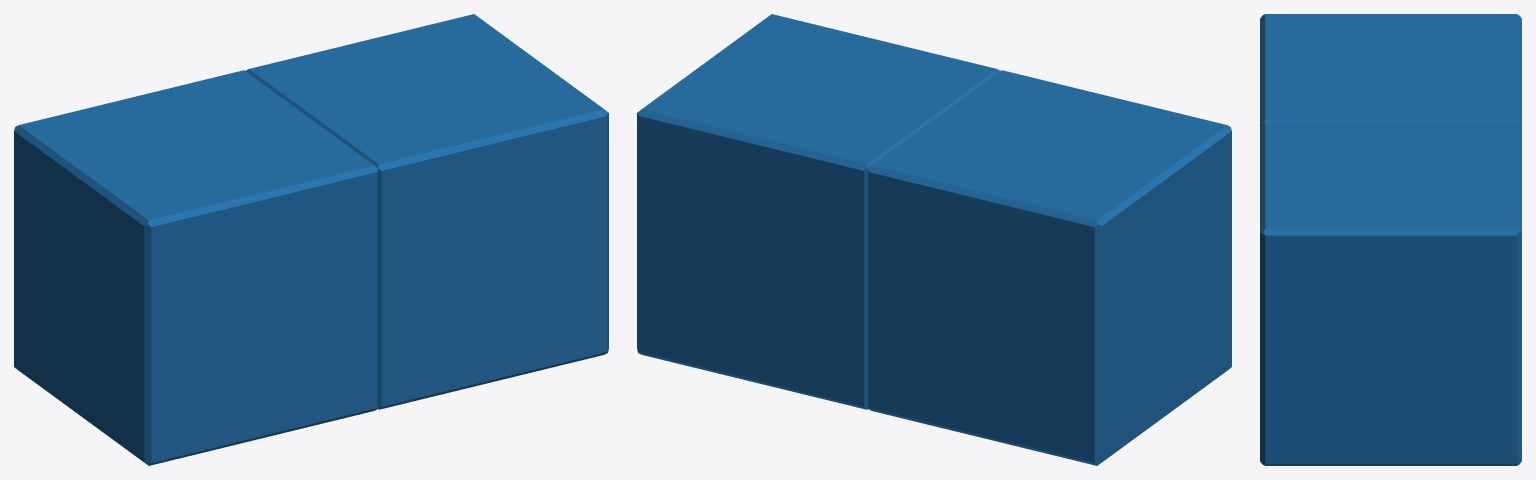
Rendered from PieceTeal.fbx.
The picture shows the model from 3 angles, left to right: view 1: azimuth 30°, elevation 25°; view 2: azimuth 150°, elevation 25°; view 3: azimuth 270°, elevation 25°; orthographic projection. The views are drawn at different scales.
Parts seen in each view (by area): view 1: PieceTeal001; view 2: PieceTeal001; view 3: PieceTeal001.
Part boxes in pixels (left/top/right/bottom): PieceTeal001: left=14, top=14, right=608, bottom=465; PieceTeal001: left=637, top=14, right=1231, bottom=465; PieceTeal001: left=1260, top=14, right=1521, bottom=465.
Bounding box in the file's own units: 18.23 × 9.21 × 9.21.
